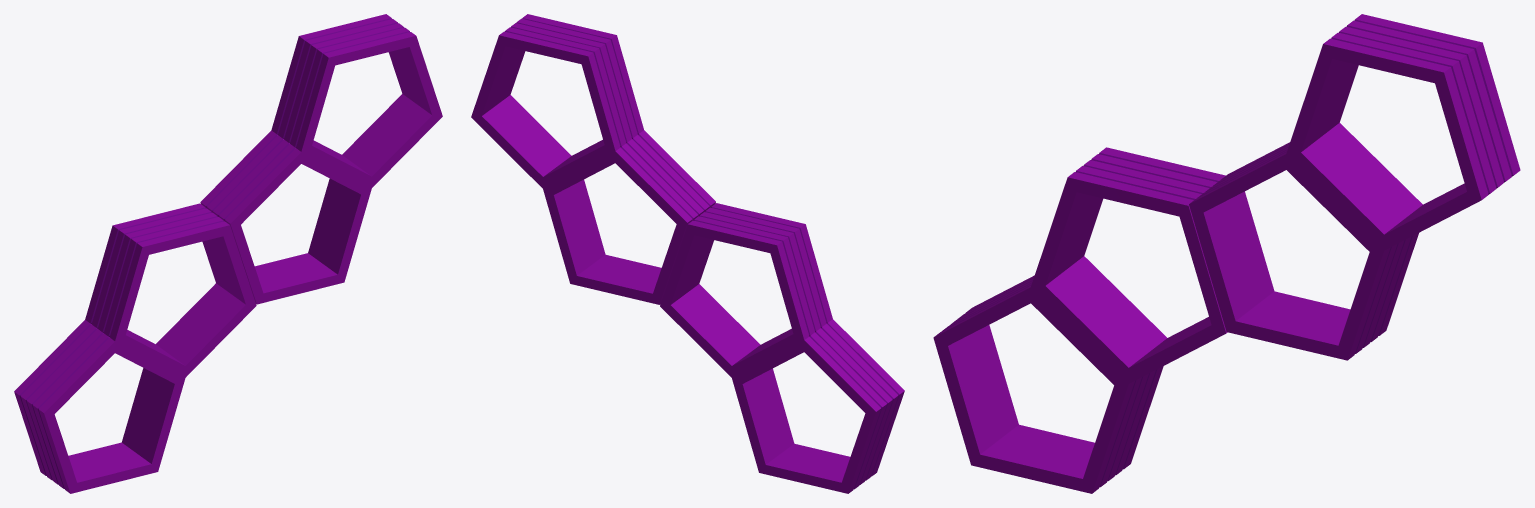
Rendered from Shelf-Retro_Room.fbx.
3 views of the same model, side by side, from view 1: azimuth 30°, elevation 25°; view 2: azimuth 150°, elevation 25°; view 3: azimuth 330°, elevation 25° (orthographic). The views are drawn at different scales.
Parts seen in each view (by area): view 1: Shelf-Retro_Room; view 2: Shelf-Retro_Room; view 3: Shelf-Retro_Room.
Boxes of the visible parts, x1,y1,x2,y2 form: Shelf-Retro_Room: [14, 14, 442, 493]; Shelf-Retro_Room: [471, 14, 904, 493]; Shelf-Retro_Room: [933, 14, 1520, 493].
Size of the model in its own units: 155 by 138 by 21.13.
